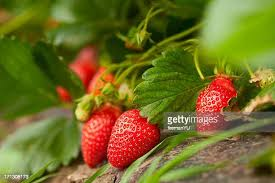ripe: (102, 109, 164, 174), (77, 95, 119, 172), (194, 75, 243, 139), (62, 58, 105, 94)
unripe: (117, 81, 144, 108)
